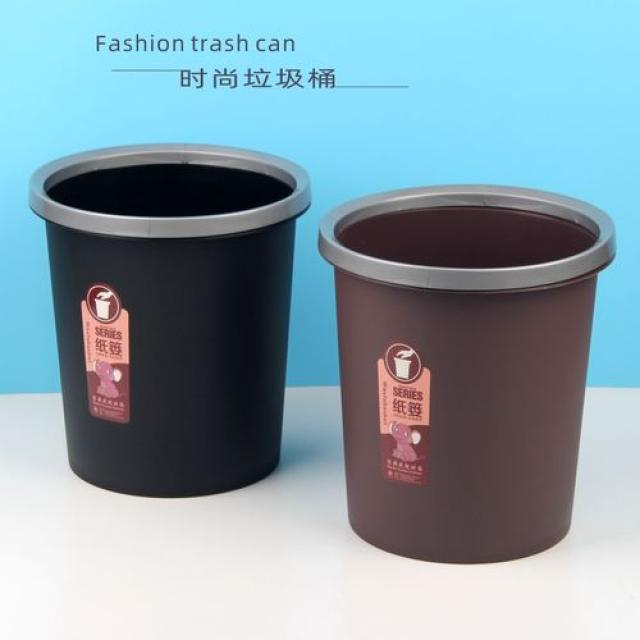dustbin: (23, 137, 314, 501)
